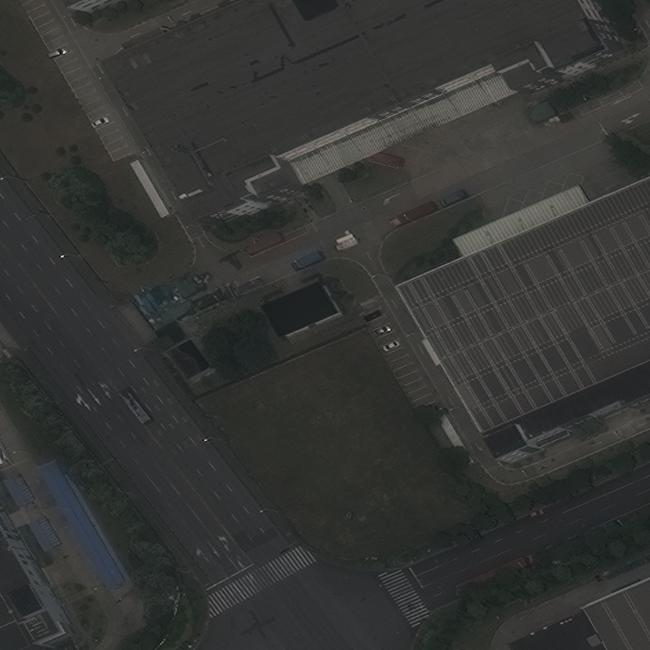parking lot: (26, 4, 134, 170), (358, 297, 432, 412)
